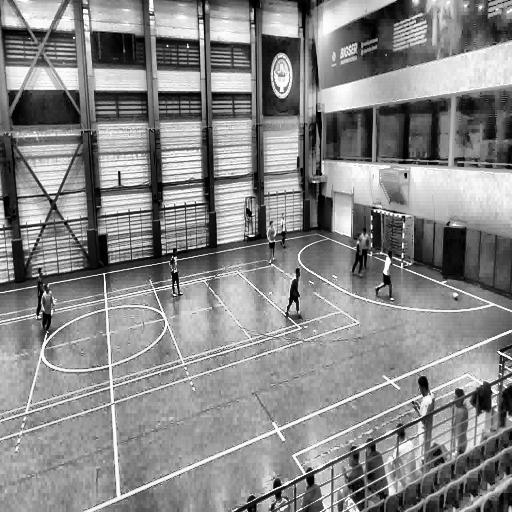ball: (453, 289, 458, 299)
player: (375, 250, 394, 300), (38, 282, 56, 333), (285, 266, 302, 318), (34, 264, 46, 321), (359, 228, 372, 274), (351, 231, 363, 280), (171, 248, 182, 297), (267, 221, 277, 264), (280, 212, 286, 248)
